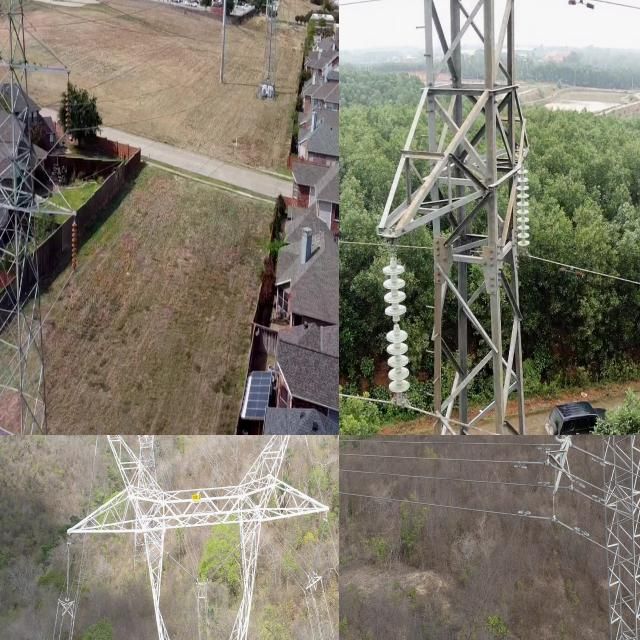杆塔: (371, 0, 550, 435), (67, 435, 332, 640), (0, 0, 69, 435), (111, 435, 175, 564), (253, 0, 285, 97)
正常电缆: (339, 231, 640, 298), (339, 484, 598, 554), (339, 464, 600, 509), (339, 448, 599, 492), (339, 389, 514, 435), (339, 435, 544, 450), (574, 442, 598, 464)
正常绝缘子: (377, 248, 412, 410), (514, 154, 534, 258), (59, 70, 76, 149), (67, 217, 84, 293)
绝缘子破损: (392, 316, 400, 330)
